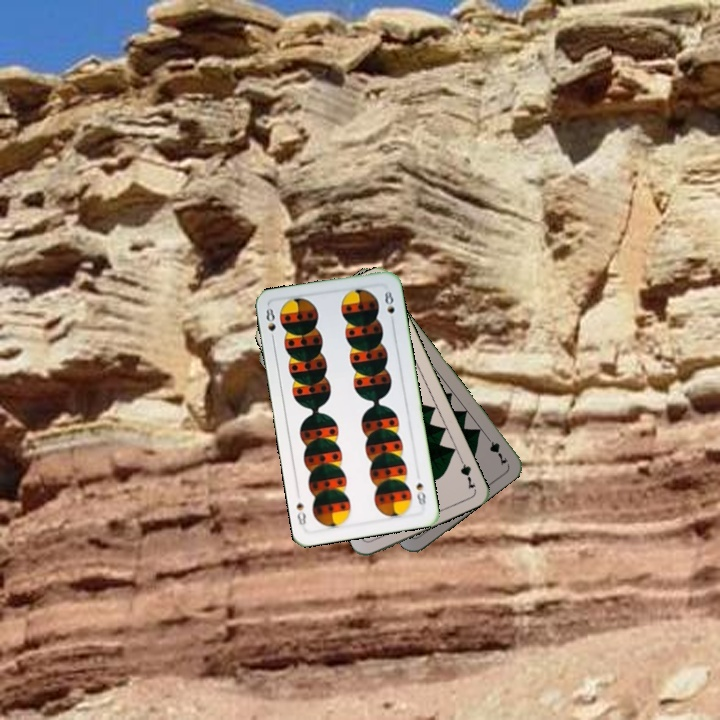G7: (481, 430, 510, 467), (455, 452, 478, 492)
S8: (262, 304, 278, 344), (412, 478, 428, 510)
